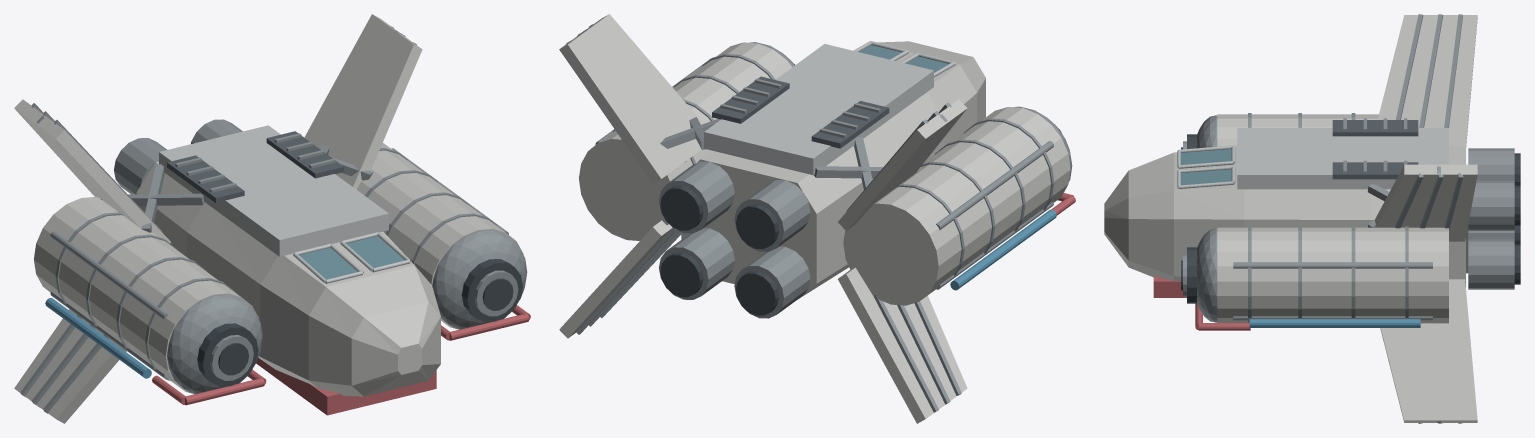
File: earp_white_off.glb
3 renders of one model, left to right at view 1: azimuth 30°, elevation 25°; view 2: azimuth 150°, elevation 25°; view 3: azimuth 270°, elevation 25°, orthographic. The views are drawn at different scales.
Parts seen in each view (by area): view 1: material_0, material_4, material_2, material_1, material_5, material_7, material_3, material_6; view 2: material_0, material_4, material_2, material_5, material_7, material_6, material_3; view 3: material_0, material_4, material_2, material_7, material_5, material_6, material_3, material_1.
Part boxes in pixels (x1,y1,x2,y2): material_0: [14, 14, 523, 423]; material_4: [20, 26, 527, 413]; material_2: [159, 125, 410, 283]; material_1: [152, 305, 530, 415]; material_5: [197, 259, 522, 386]; material_7: [167, 131, 344, 203]; material_3: [299, 236, 404, 279]; material_6: [45, 298, 151, 378]; material_0: [559, 14, 1070, 423]; material_4: [566, 24, 1072, 412]; material_2: [704, 41, 955, 175]; material_5: [660, 64, 1061, 315]; material_7: [712, 76, 889, 148]; material_6: [950, 209, 1056, 290]; material_3: [859, 45, 948, 72]; material_0: [1104, 15, 1477, 422]; material_4: [1183, 14, 1514, 423]; material_2: [1177, 128, 1448, 189]; material_7: [1332, 120, 1418, 179]; material_5: [1181, 134, 1520, 303]; material_6: [1249, 319, 1420, 327]; material_3: [1180, 149, 1231, 185]; material_1: [1153, 276, 1250, 330].
Bounding box in the file's own units: 3.75 × 2.87 × 4.13.
